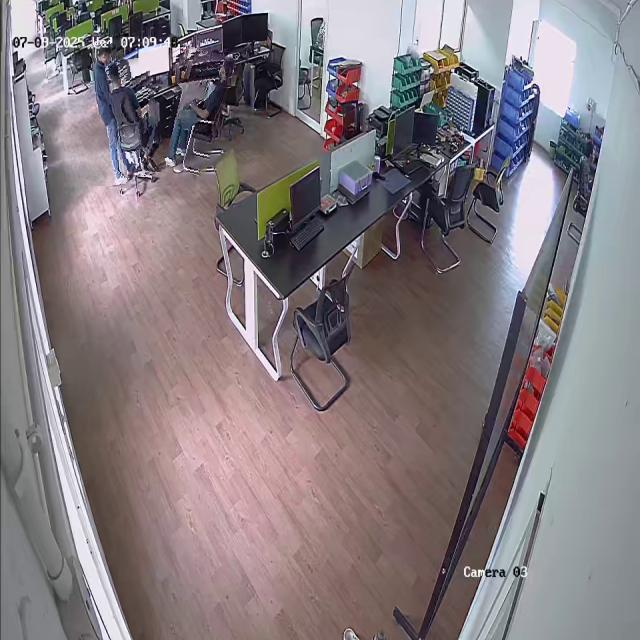person: (163, 48, 228, 175), (109, 58, 162, 177), (81, 43, 124, 186)
